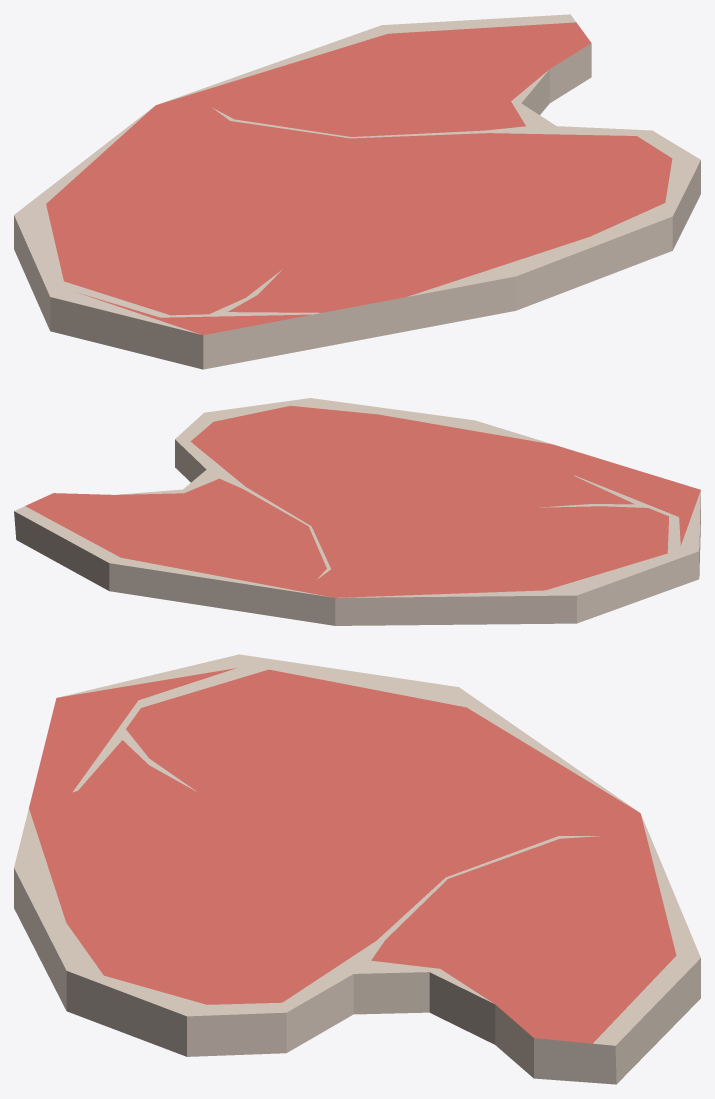
File: meat_set.fbx
3 renders of one model, top to bottom at view 1: azimuth 30°, elevation 25°; view 2: azimuth 150°, elevation 25°; view 3: azimuth 270°, elevation 25°, orthographic. The views are drawn at different scales.
Parts seen in each view (by area): view 1: Cylinder; view 2: Cylinder; view 3: Cylinder.
Part boxes in pixels (x1,y1,x2,y2): Cylinder: [14, 14, 700, 369]; Cylinder: [14, 398, 700, 625]; Cylinder: [14, 654, 700, 1084].
Size of the model in its own units: 20.94 by 1.01 by 15.53.
